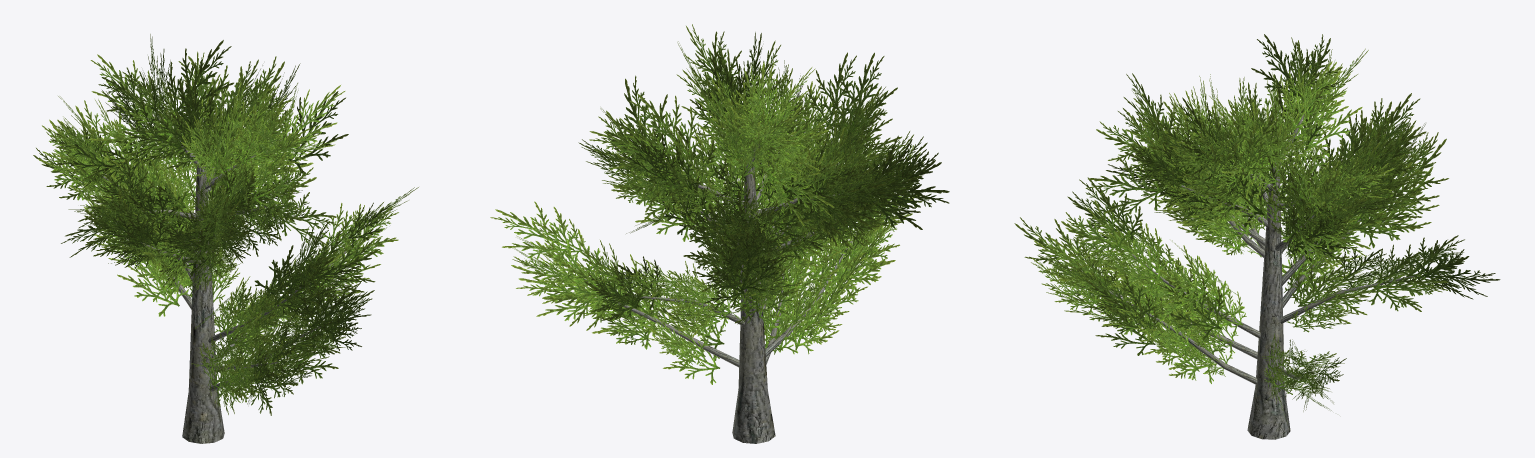
The model's file is tree_cypress_b.glb.
3 renders of one model, left to right at view 1: azimuth 30°, elevation 25°; view 2: azimuth 150°, elevation 25°; view 3: azimuth 270°, elevation 25°, orthographic. The views are drawn at different scales.
Visible parts, largest first — view 1: tree; view 2: tree; view 3: tree.
Boxes of the visible parts, bbox=[...] form: tree: bbox=[33, 34, 418, 443]; tree: bbox=[490, 24, 949, 443]; tree: bbox=[1014, 34, 1500, 439].
Bounding box in the file's own units: 9.91 × 9.06 × 10.93.
Materials: 2 (2 with a texture image).
